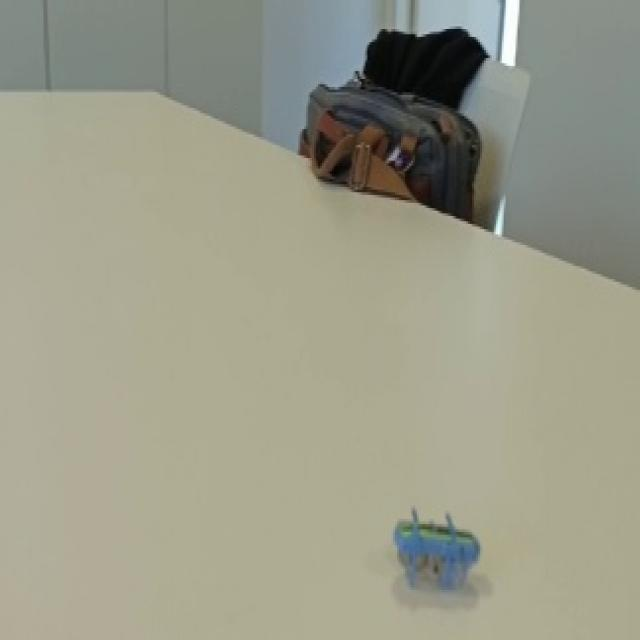3_NanoBug_Celeste: (382, 490, 490, 616)
